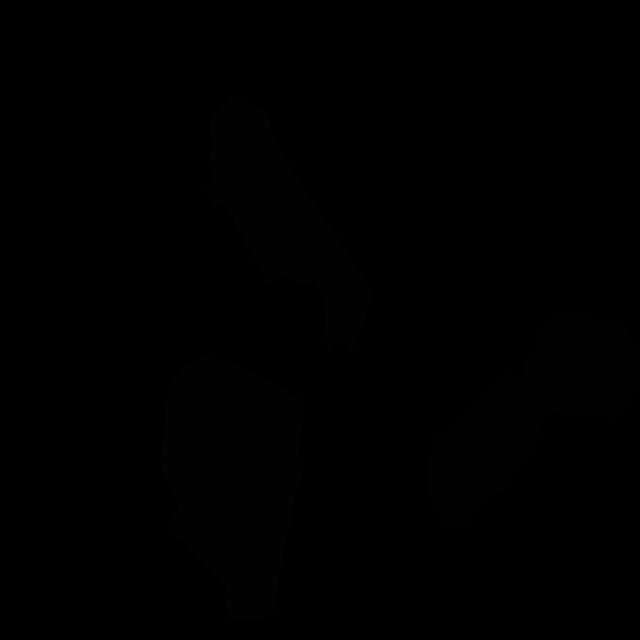cardboard: (205, 94, 374, 356), (160, 355, 306, 623)
rigid_plastic: (426, 372, 549, 530), (522, 308, 639, 420)
